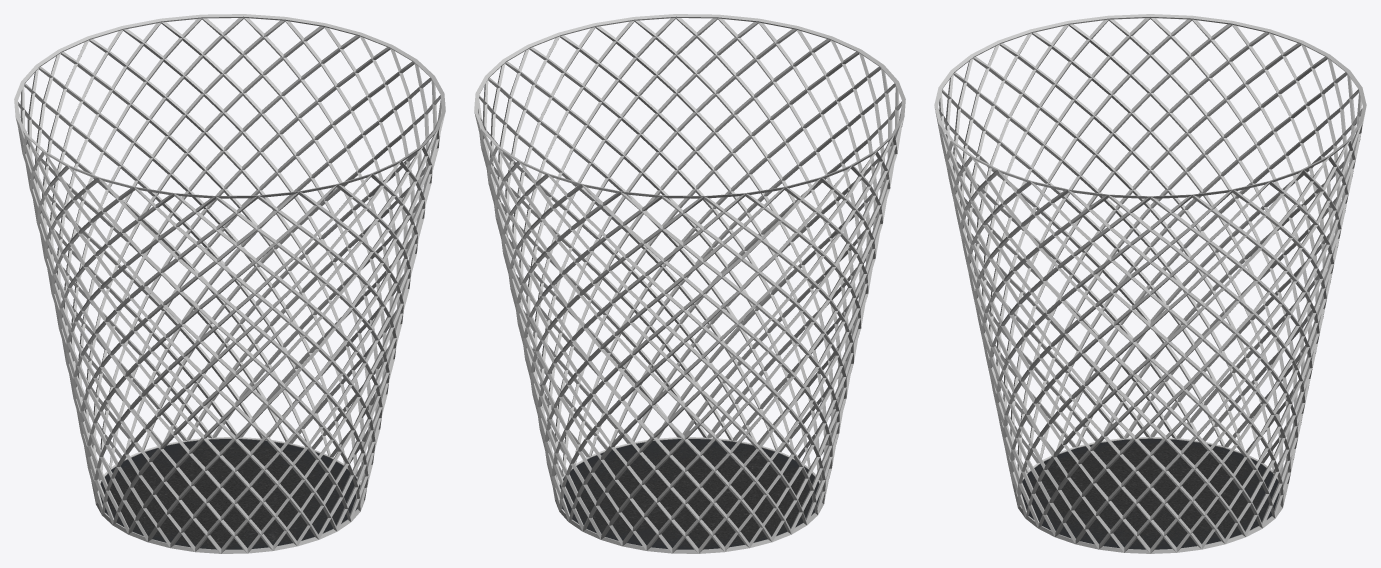
File: Trashcan.fbx
3 views of the same model, side by side, from view 1: azimuth 30°, elevation 25°; view 2: azimuth 150°, elevation 25°; view 3: azimuth 270°, elevation 25° (orthographic).
Visible parts, largest first — view 1: Trashcan; view 2: Trashcan; view 3: Trashcan.
Boxes of the visible parts, x1,y1,x2,y2 form: Trashcan: (14, 14, 445, 553); Trashcan: (474, 14, 905, 553); Trashcan: (934, 14, 1366, 553).
Bounding box in the file's own units: 202 × 201 × 202.
